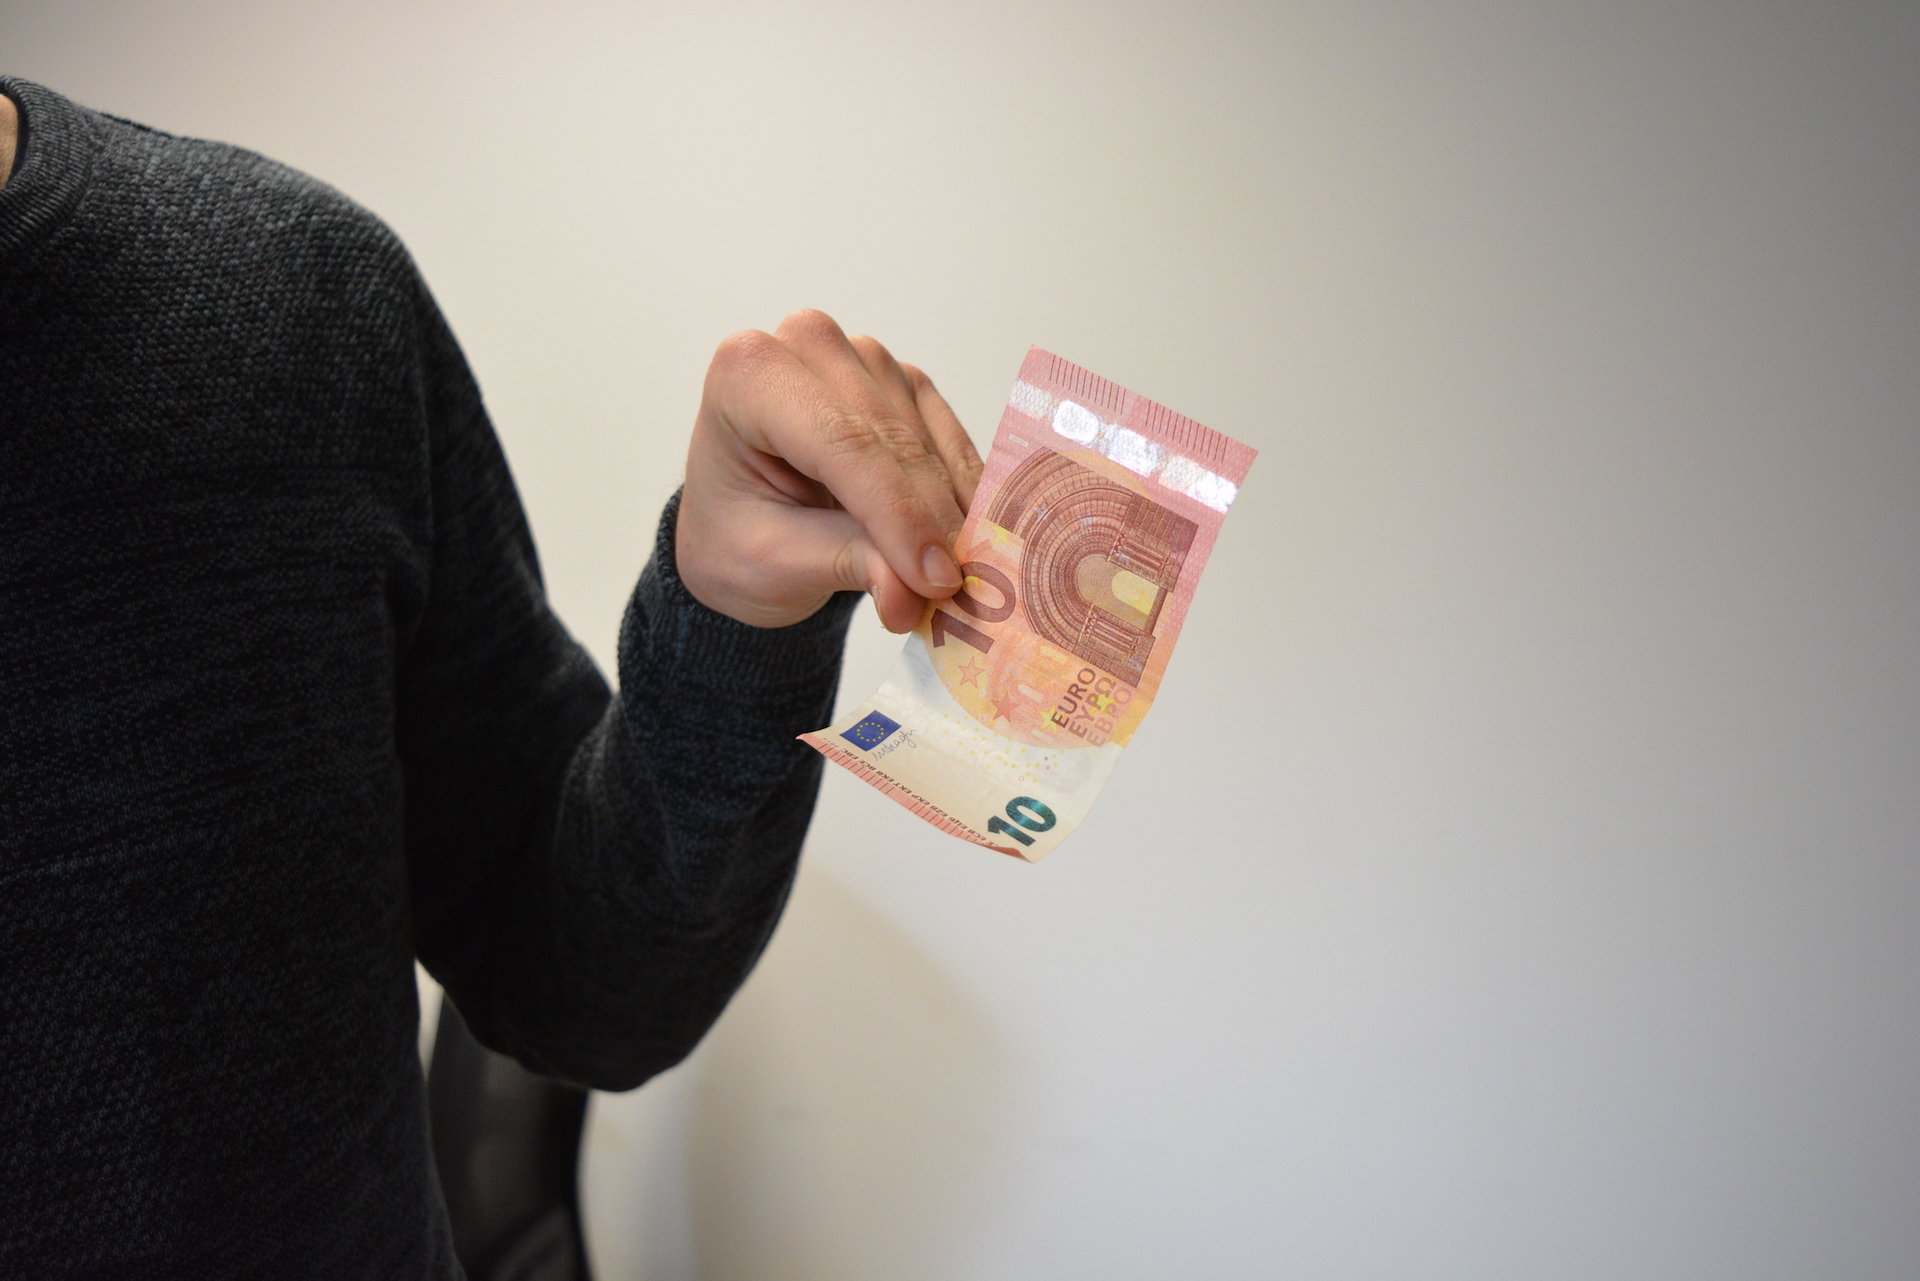billete: (791, 339, 1262, 865)
